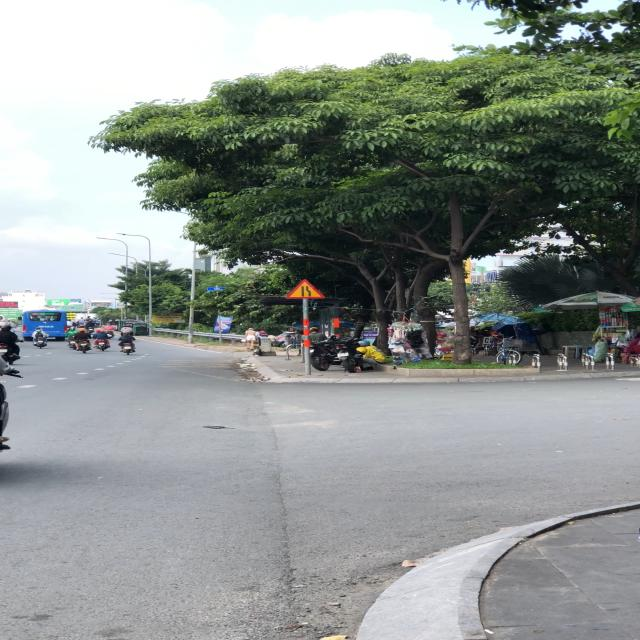Bien bao duong bi thu hep: (285, 278, 327, 300)
